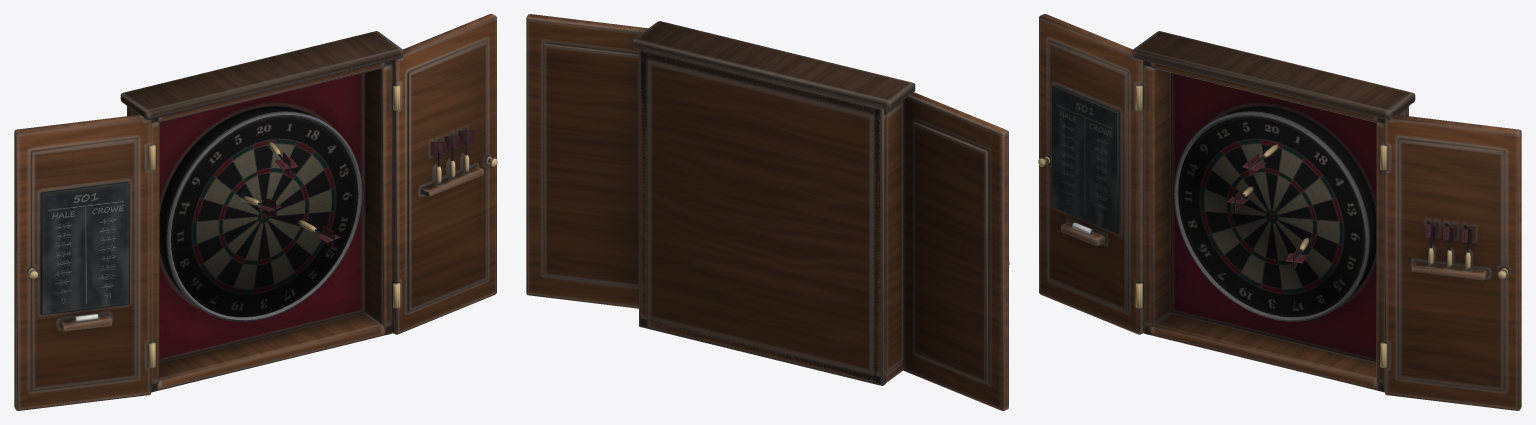
The model's file is Dartboard.fbx.
3 renders of one model, left to right at view 1: azimuth 30°, elevation 25°; view 2: azimuth 150°, elevation 25°; view 3: azimuth 330°, elevation 25°, orthographic.
Visible parts, largest first — view 1: Dartboard; view 2: Dartboard; view 3: Dartboard.
Boxes of the visible parts, x1=… form: Dartboard: x1=14, y1=14, x2=497, y2=410; Dartboard: x1=526, y1=14, x2=1009, y2=410; Dartboard: x1=1038, y1=14, x2=1521, y2=410.
Bounding box in the file's own units: 432 × 246 × 63.46.
